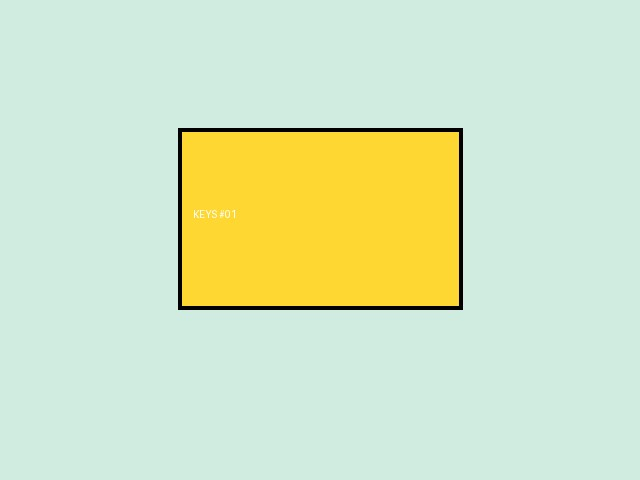keys: (178, 128, 462, 309)
